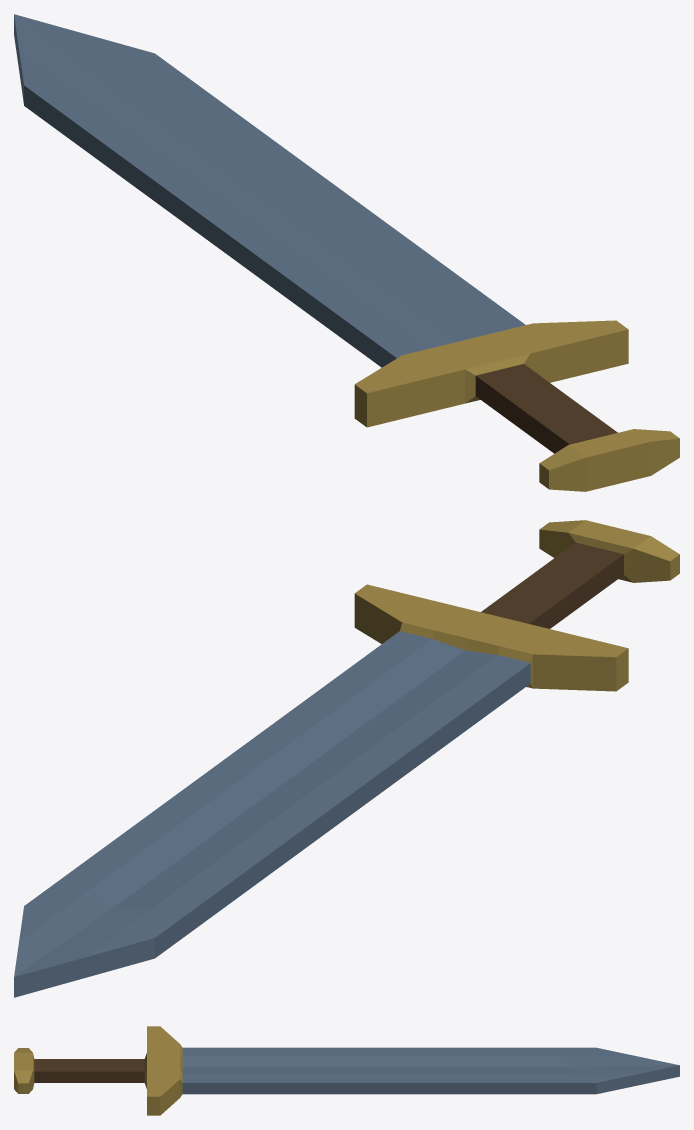
The model's file is ClockworkPixie_Test_Sword.fbx.
3 renders of one model, top to bottom at view 1: azimuth 30°, elevation 25°; view 2: azimuth 150°, elevation 25°; view 3: azimuth 270°, elevation 25°, orthographic. The views are drawn at different scales.
Parts seen in each view (by area): view 1: Cube; view 2: Cube; view 3: Cube.
Boxes of the visible parts, <box> form: Cube: <box>14,14,679,491</box>; Cube: <box>14,520,679,997</box>; Cube: <box>14,1026,679,1115</box>.
Size of the model in its own units: 400 by 50 by 1600.
